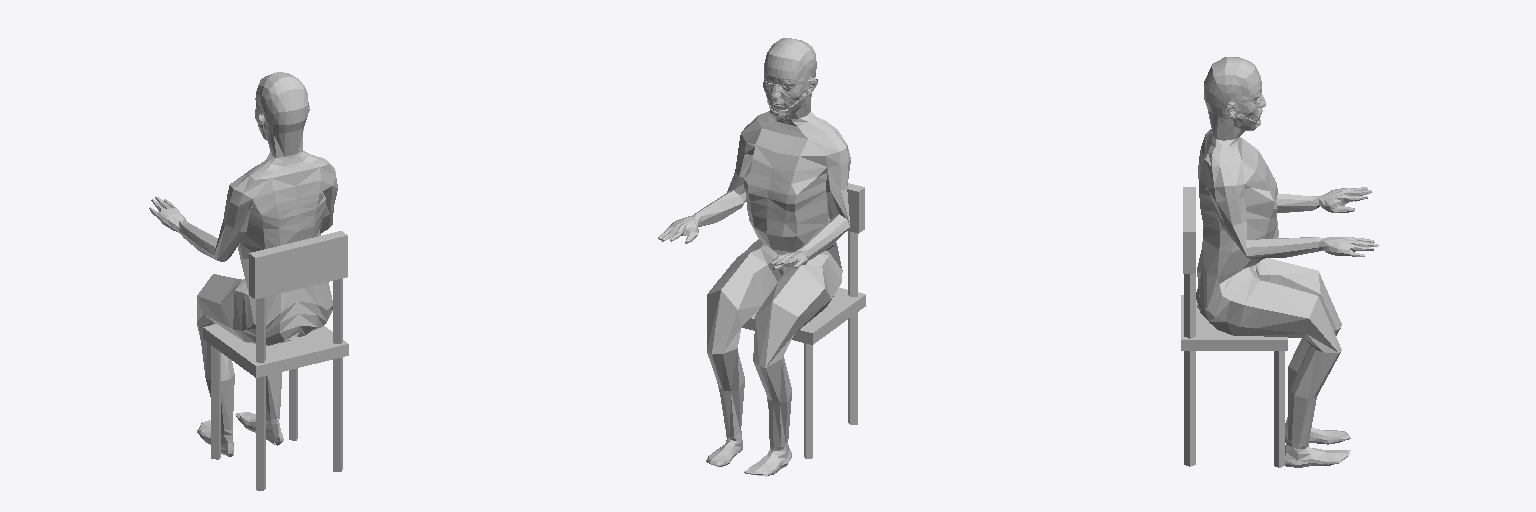
File: amigaguy_000006.obj
3 renders of one model, left to right at view 1: azimuth 30°, elevation 25°; view 2: azimuth 150°, elevation 25°; view 3: azimuth 270°, elevation 25°, orthographic.
Visible parts, largest first — view 1: Cube, Cube.001_Cube.002; view 2: Cube, Cube.001_Cube.002; view 3: Cube, Cube.001_Cube.002.
Part boxes in pixels (x1,y1,x2,y2): Cube: (149,72,337,456); Cube.001_Cube.002: (203,231,348,490); Cube: (658,38,850,476); Cube.001_Cube.002: (726,183,865,458); Cube: (1196,57,1378,467); Cube.001_Cube.002: (1181,187,1287,467).
Size of the model in its own units: 27.52 by 76.4 by 34.57.